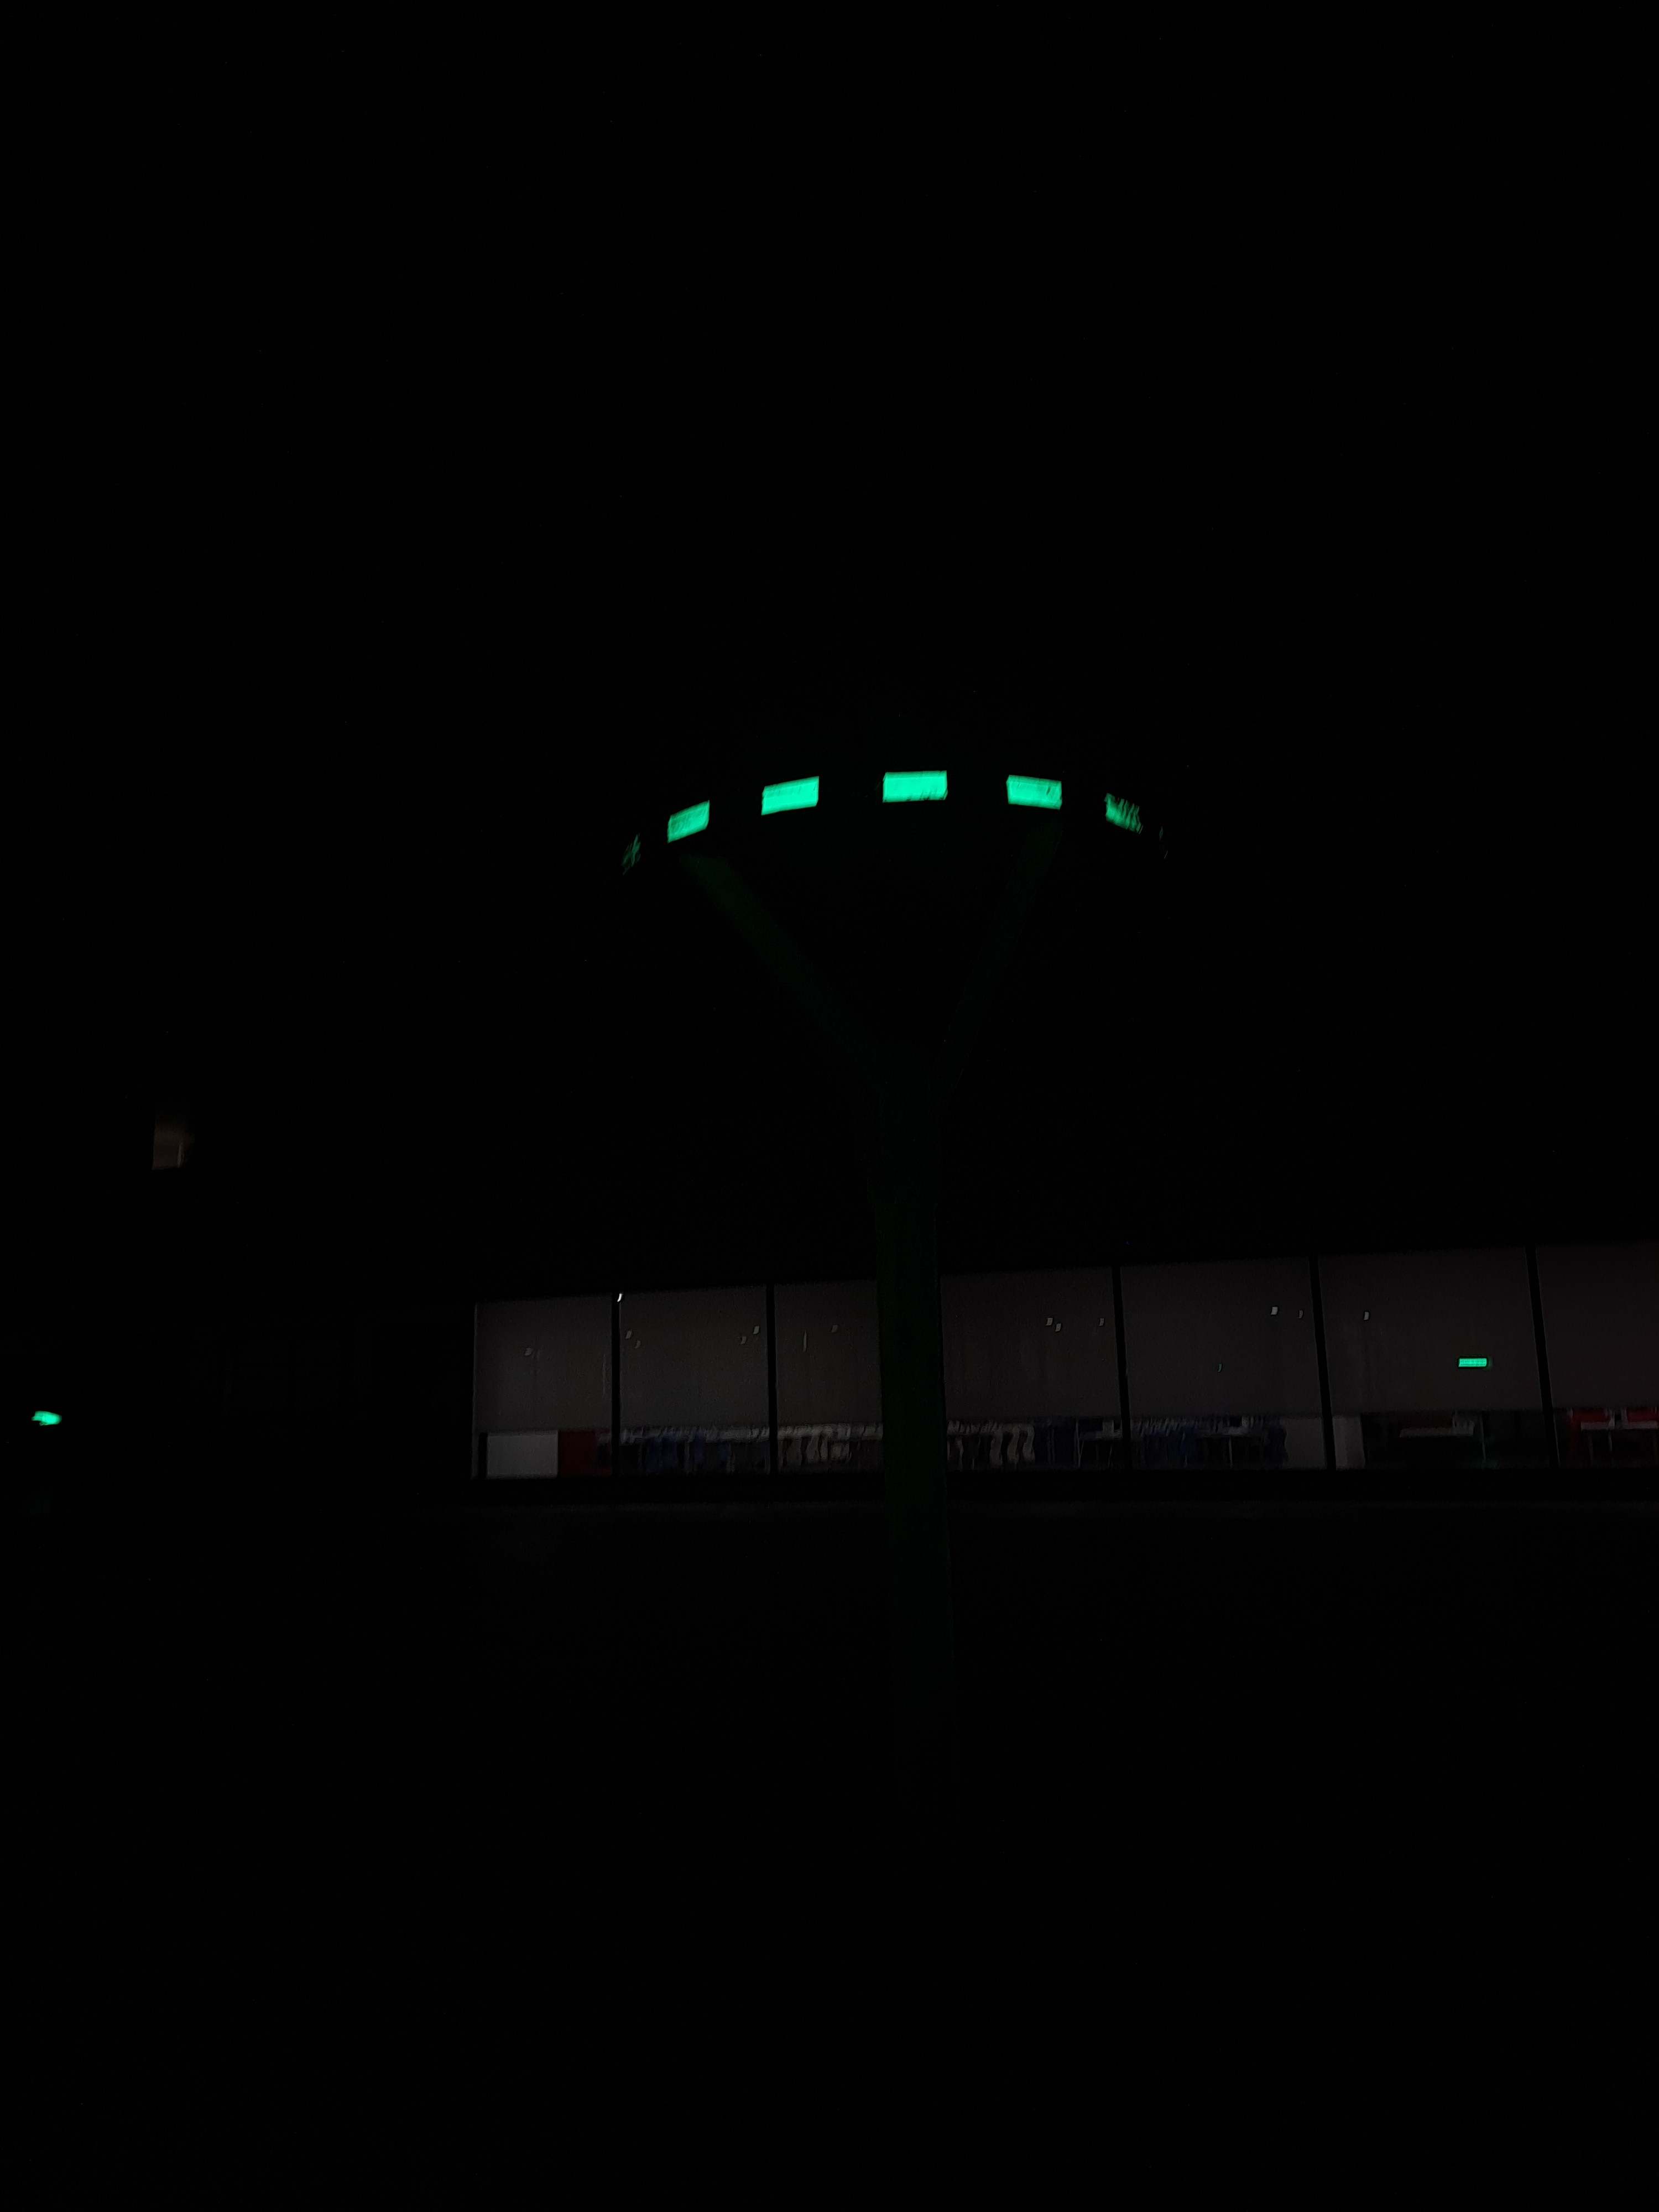hoop: (653, 768, 1154, 841)
